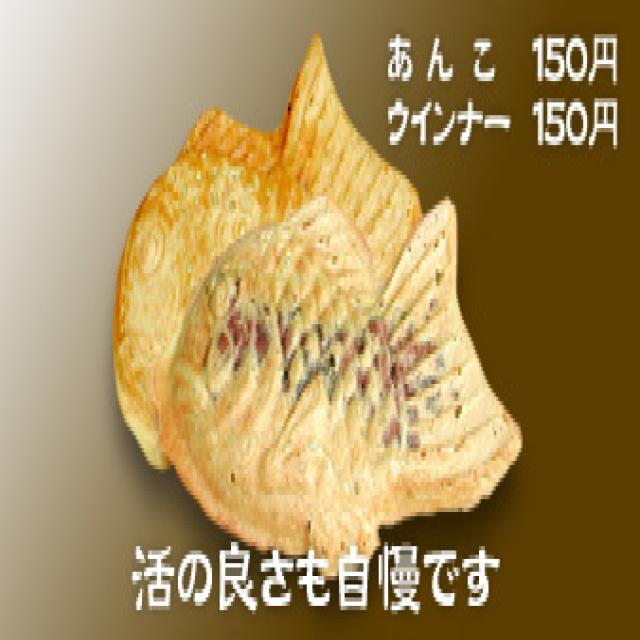熟制海鲜: (111, 26, 522, 550)
